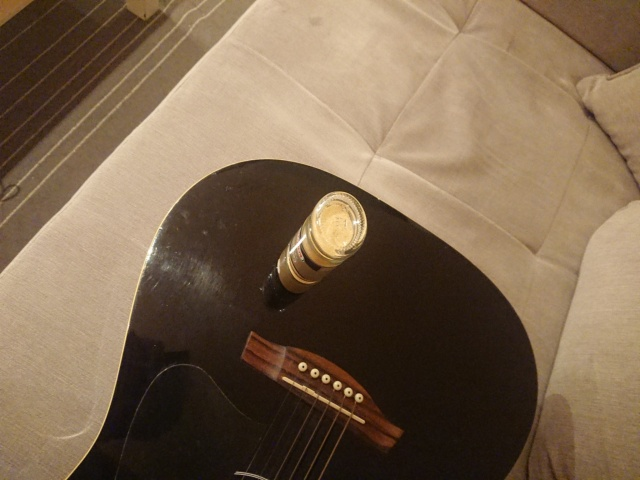Kotanyi Garlic Granules 70g: (275, 188, 369, 296)
